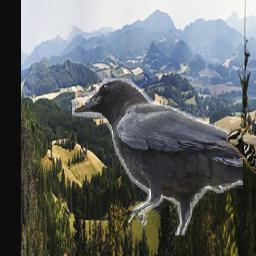Crow: (73, 78, 244, 235)
Woodpecker: (228, 125, 256, 180)
